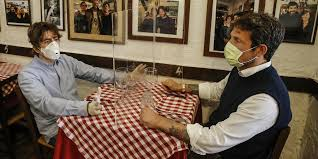Caution: (17, 13, 286, 151)
